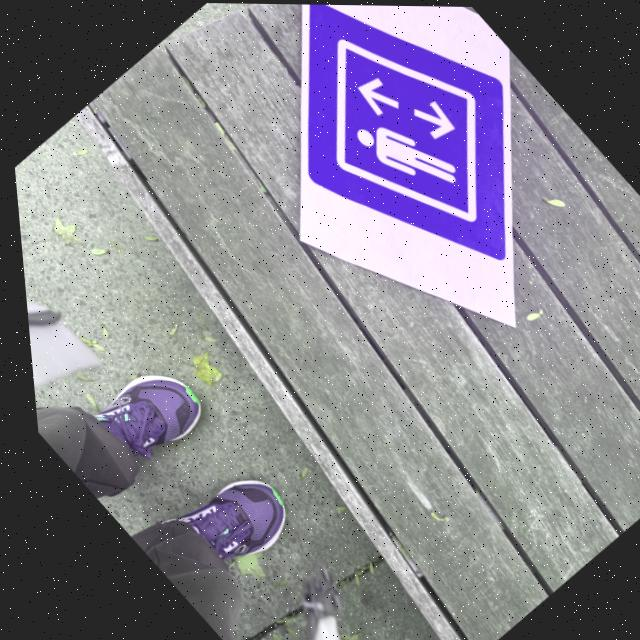elevator: (307, 5, 503, 262)
